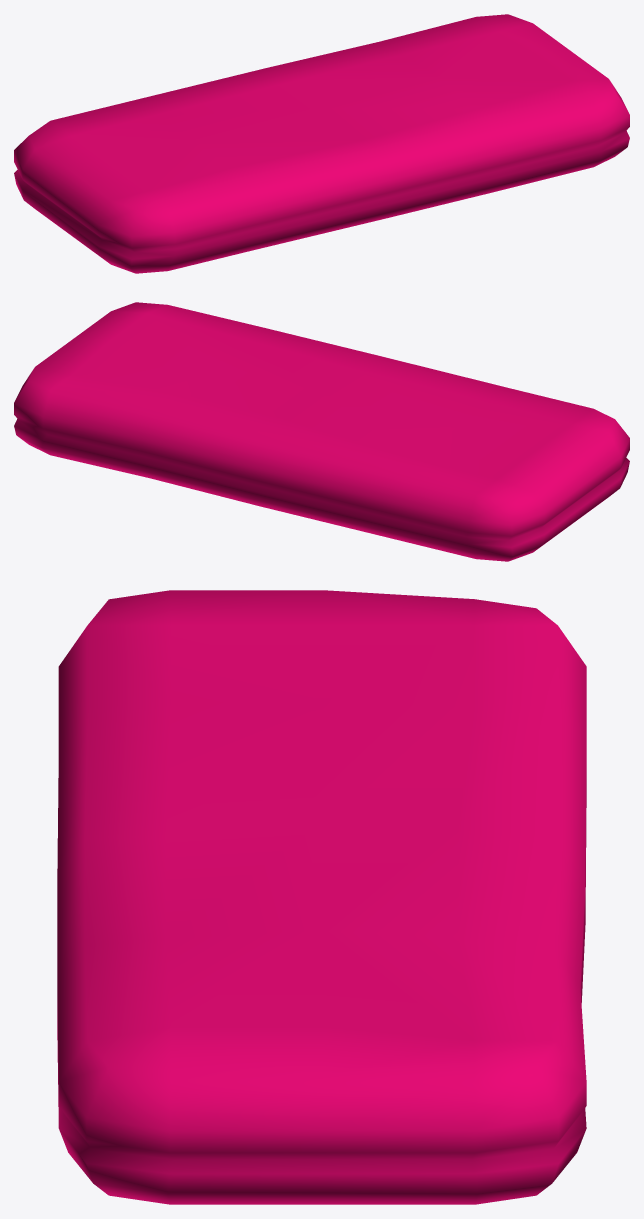
File: Air_Mattress.fbx
The picture shows the model from 3 angles, top to bottom: view 1: azimuth 30°, elevation 25°; view 2: azimuth 150°, elevation 25°; view 3: azimuth 270°, elevation 25°; orthographic projection. The views are drawn at different scales.
Parts seen in each view (by area): view 1: Air_Mattress; view 2: Air_Mattress; view 3: Air_Mattress.
Boxes of the visible parts, <box> form: Air_Mattress: <box>14,14,629,273</box>; Air_Mattress: <box>14,302,629,561</box>; Air_Mattress: <box>57,590,586,1204</box>.
Bounding box in the file's own units: 214 × 28.07 × 93.9.
